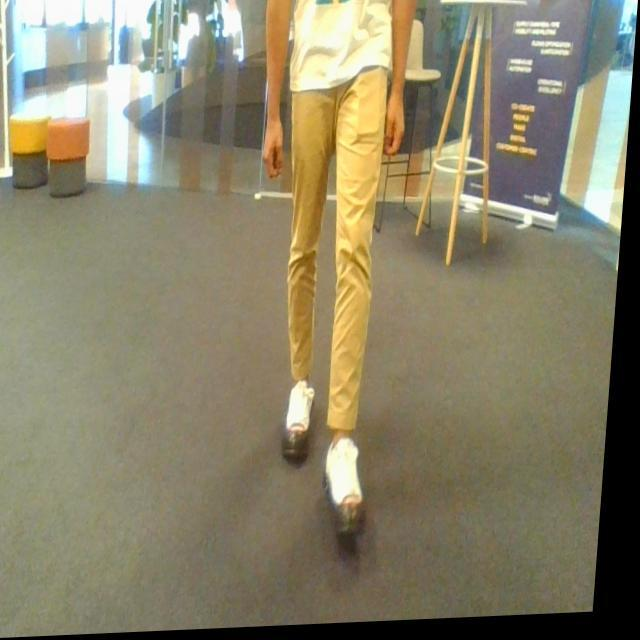shoes: (319, 424, 373, 540), (282, 373, 319, 459)
